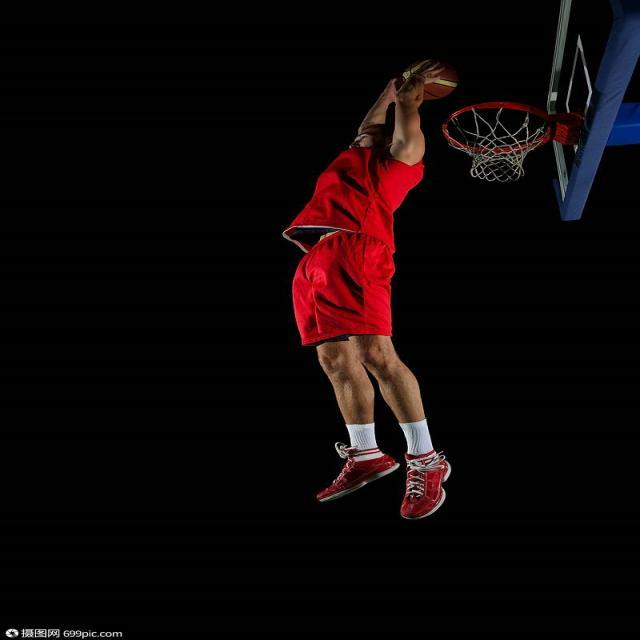rim: (406, 58, 456, 98)
